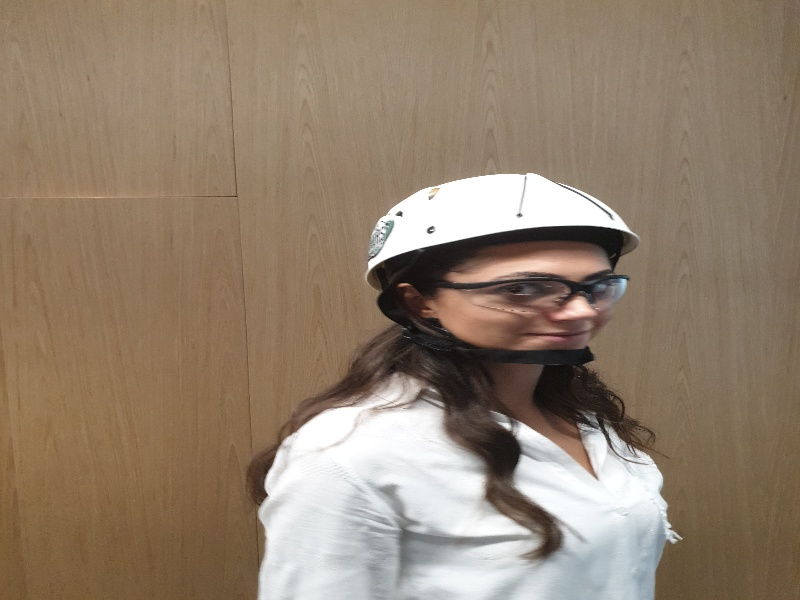Baret: (365, 173, 642, 263)
Gozluk: (395, 273, 629, 311)
